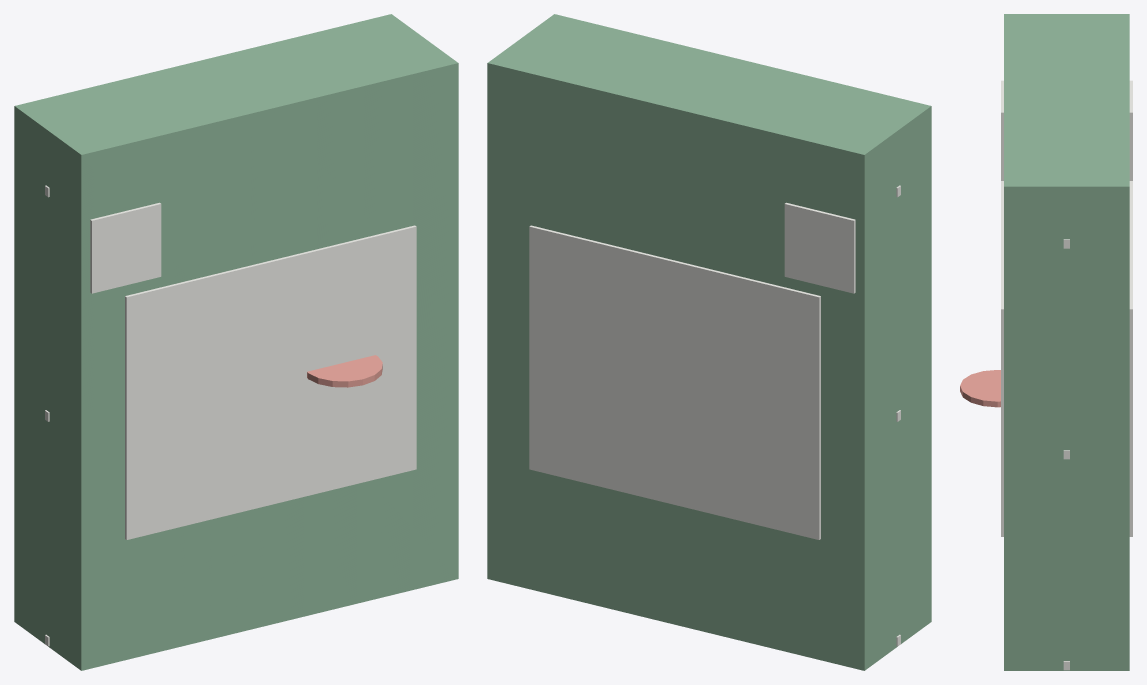
File: item_53_medicine_box.glb
The picture shows the model from 3 angles, left to right: view 1: azimuth 30°, elevation 25°; view 2: azimuth 150°, elevation 25°; view 3: azimuth 270°, elevation 25°; orthographic projection. The views are drawn at different scales.
Parts seen in each view (by area): view 1: I53_Box, I53_Label, I53_Corner, I53_PillDot; view 2: I53_Box, I53_Label, I53_Corner; view 3: I53_Box, I53_Label, I53_PillDot, I53_Corner.
Part boxes in pixels (box(x1,y1,x2,y2)): I53_Box: box(14, 14, 458, 670); I53_Label: box(125, 225, 416, 539); I53_Corner: box(90, 202, 161, 293); I53_PillDot: box(307, 355, 382, 387); I53_Box: box(487, 14, 931, 670); I53_Label: box(529, 225, 820, 539); I53_Corner: box(784, 202, 855, 293); I53_Box: box(1004, 14, 1129, 670); I53_Label: box(1001, 181, 1132, 536); I53_PillDot: box(960, 370, 1000, 407); I53_Corner: box(1001, 80, 1132, 180).
Bounding box in the file's own units: 0.0655 × 0.085 × 0.0275.
